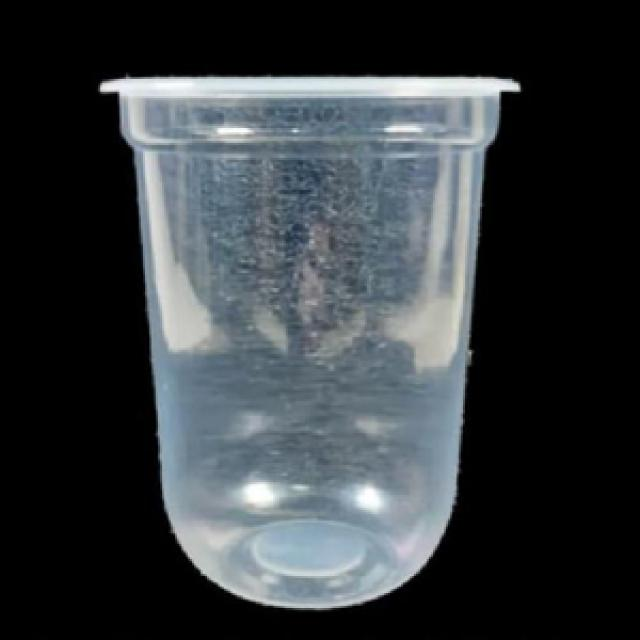plastic cup: (94, 70, 529, 616)
